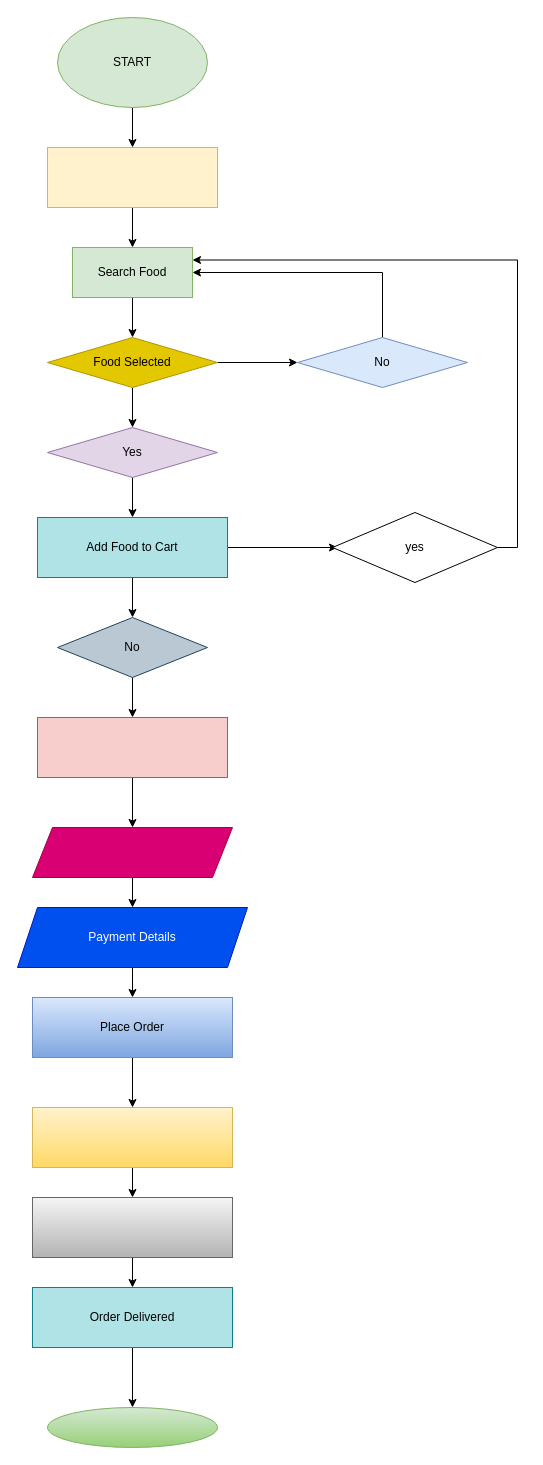
Image size: 543x1465. Some labels were removed from this diagram. The shapes that lost their labels are listed below. From the top down, each one's centre as x and y in pixels, then its label:
At point (132, 177): "OPEN FOOD APP".
At point (132, 747): "Procced to Check".
At point (132, 852): "Delivery address".
At point (132, 1137): "Restaurant Prepares Food".
At point (132, 1227): "Delivery Partner Picks Up Food".
At point (132, 1427): "END".
